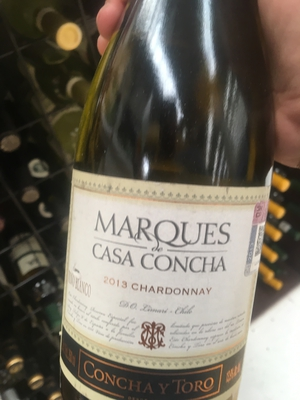marques de casa concha chardonnay: (53, 3, 285, 400)
